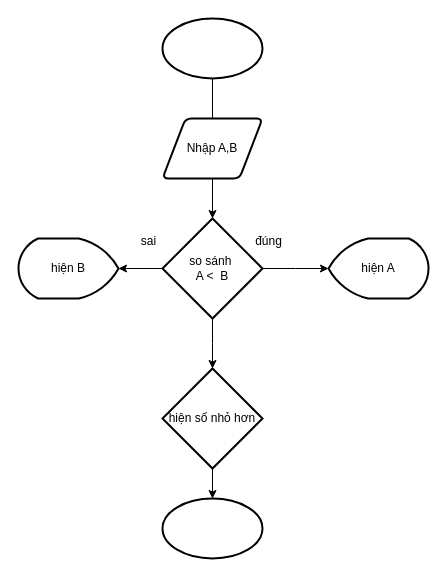
Some shapes in this 446 by 576 pixel diagram are drawn without their labels. Each missing label, with the box of its shape:
End: (161, 497, 263, 559)
start: (161, 17, 263, 79)
